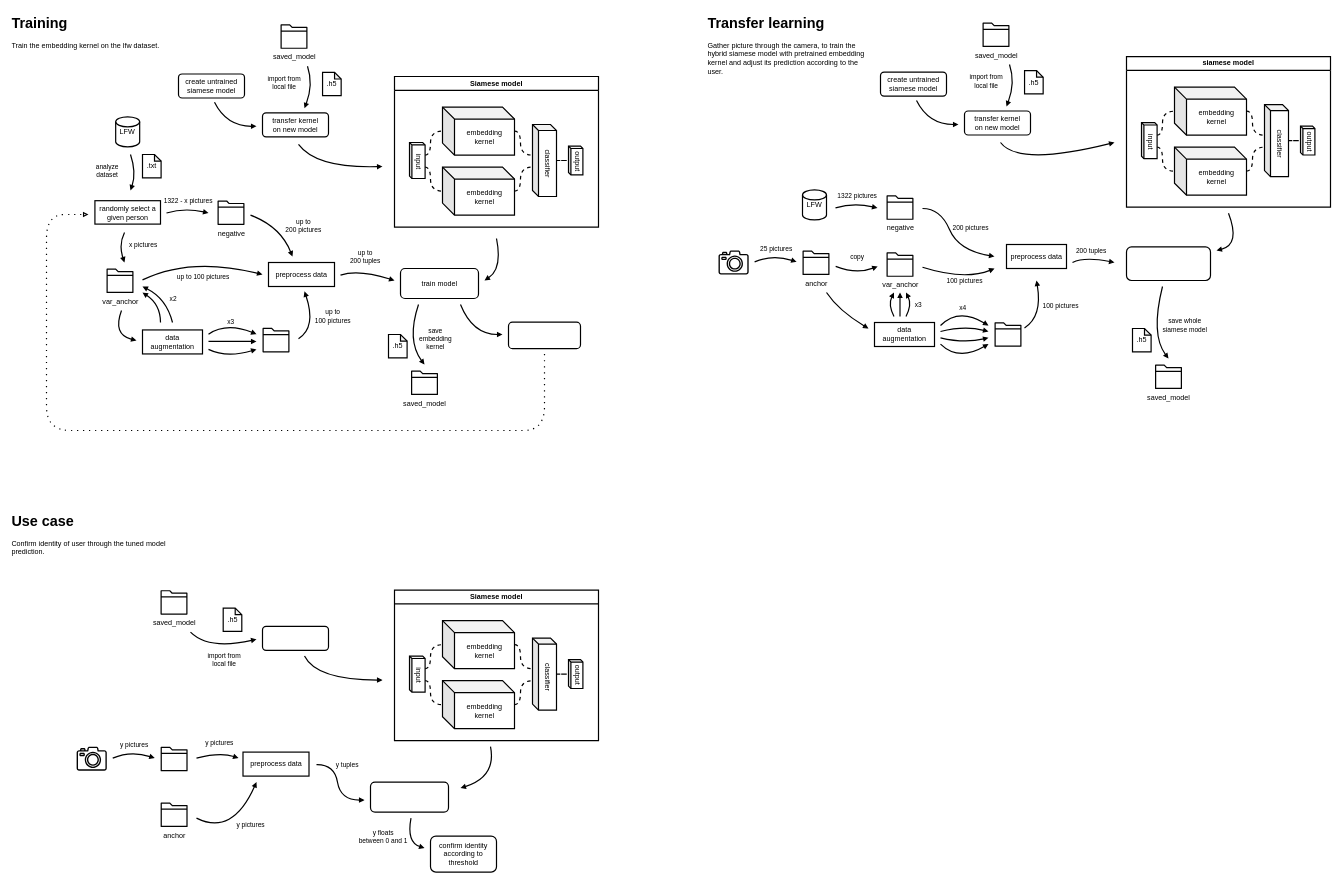
Image size: 1341x883. Some labels were removed from this diagram. Here are the shapes that lost their labels. From the top down, the centre of each, then its label:
At point (1168, 263): "adjust model through training".
At point (276, 339): "var_positive".
At point (544, 335): "repeat process on another person".
At point (1008, 334): "positive".
At point (295, 638): "load presaved siamese model".
At point (174, 758): "verification".
At point (409, 796): "predict label".
